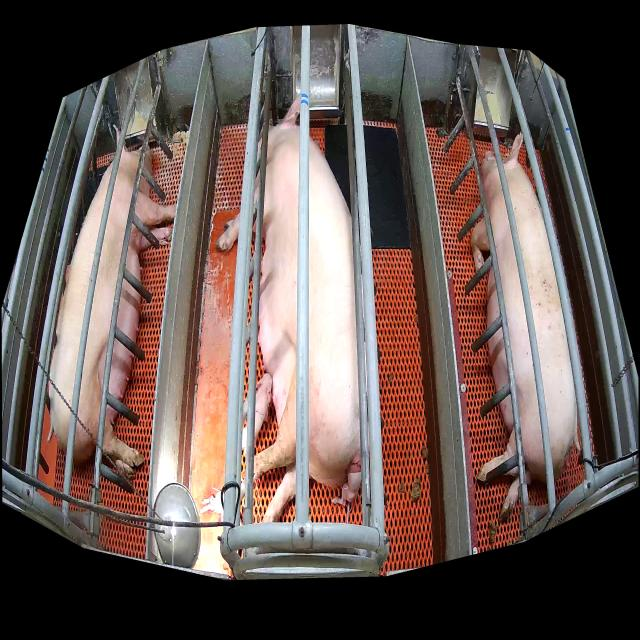pig: (218, 92, 362, 524), (48, 123, 176, 479), (471, 130, 580, 519), (242, 374, 273, 459), (332, 474, 362, 505), (201, 486, 224, 515)
